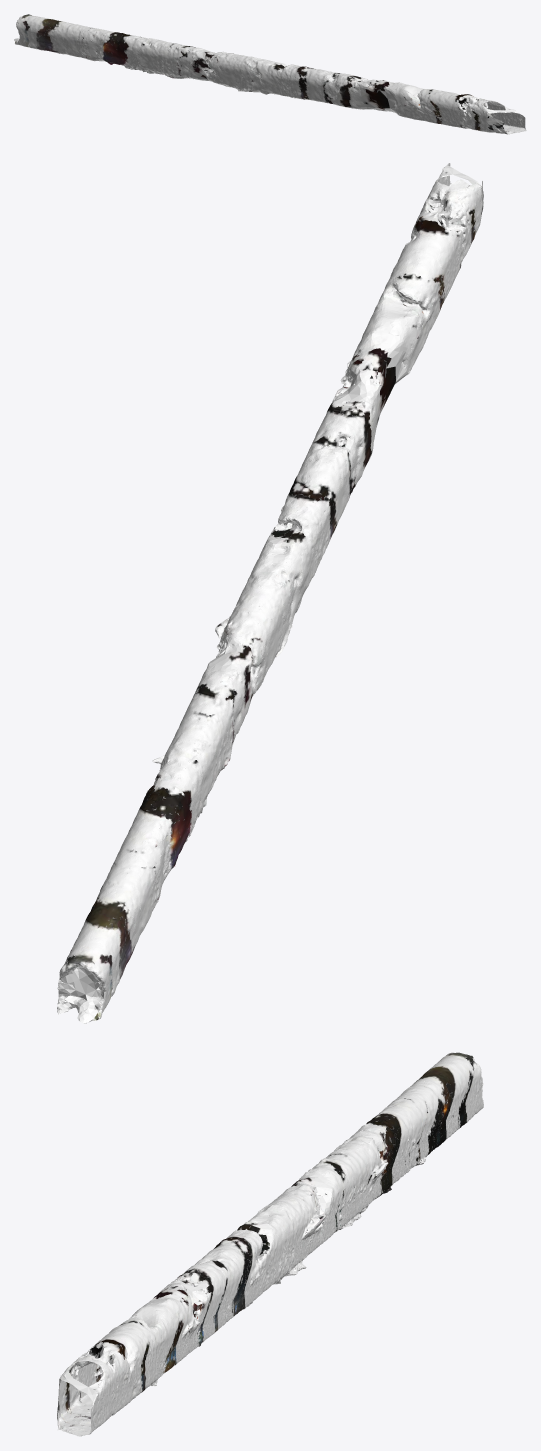
Rendered from TheCave.compressed.glb.
The picture shows the model from 3 angles, top to bottom: view 1: azimuth 30°, elevation 25°; view 2: azimuth 150°, elevation 25°; view 3: azimuth 330°, elevation 25°; orthographic projection. The views are drawn at different scales.
Visible parts, largest first — view 1: texturedMesh; view 2: texturedMesh; view 3: texturedMesh.
Part boxes in pixels (x1,y1,x2,y2): texturedMesh: (14, 14, 526, 134); texturedMesh: (57, 163, 483, 1023); texturedMesh: (57, 1052, 483, 1436).
Bounding box in the file's own units: 0.8217 × 0.6713 × 2.98.
Materials: 1 (1 with a texture image).
